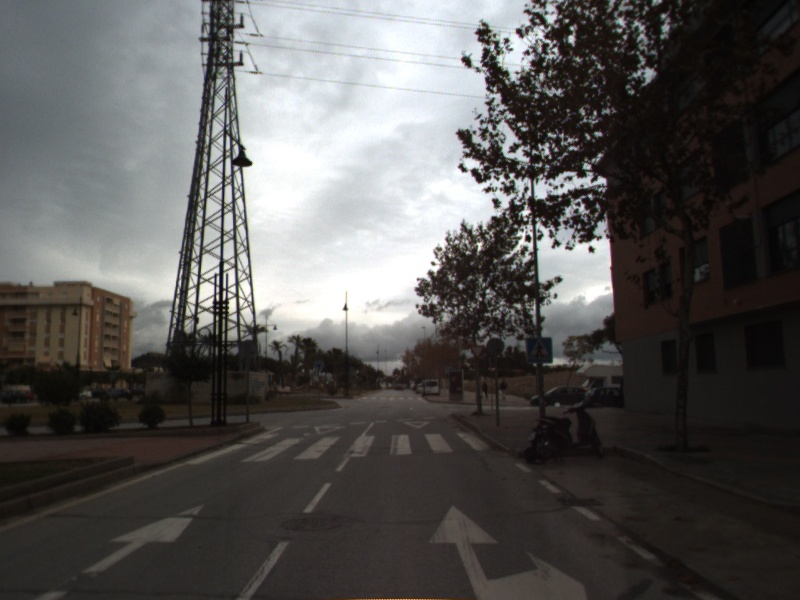STRAIGHT: (32, 501, 208, 600)
STRAIGHT_RIGHT: (425, 501, 588, 600)
